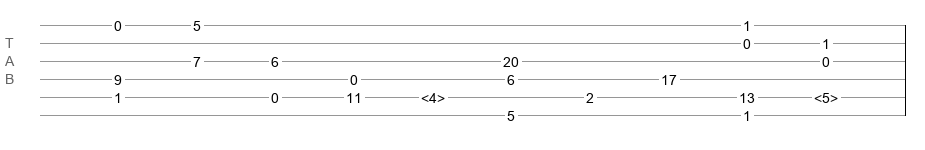0: (114, 18, 122, 28), (271, 90, 279, 100), (350, 72, 358, 82), (743, 36, 751, 46), (822, 54, 830, 64)
1: (114, 90, 122, 100), (743, 18, 751, 28), (743, 108, 751, 118), (822, 36, 830, 46)
11: (346, 90, 362, 100)
13: (739, 90, 755, 100)
17: (661, 72, 677, 82)
2: (586, 90, 594, 100)
20: (503, 54, 519, 64)
5: (193, 18, 201, 28), (507, 108, 515, 118)
6: (271, 54, 279, 64), (507, 72, 515, 82)
7: (193, 54, 201, 64)
9: (114, 72, 122, 82)
harmonic: (421, 90, 445, 100), (814, 90, 838, 100)
